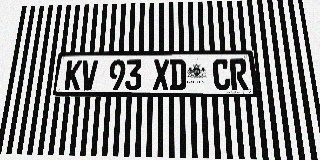3: (125, 60, 142, 90)
9: (109, 60, 126, 90)
C: (212, 59, 231, 90)
D: (170, 59, 186, 90)
K: (64, 60, 83, 90)
R: (229, 59, 249, 90)
V: (80, 60, 98, 90)
X: (153, 59, 169, 90)
